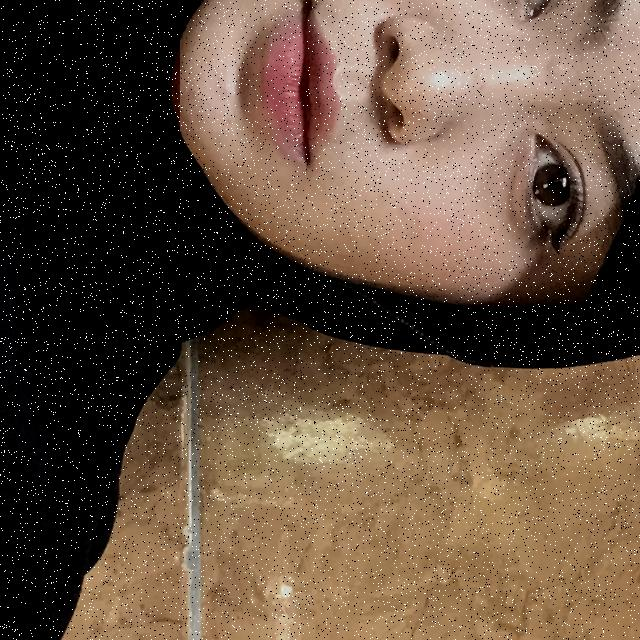kamu: (0, 0, 179, 200)
